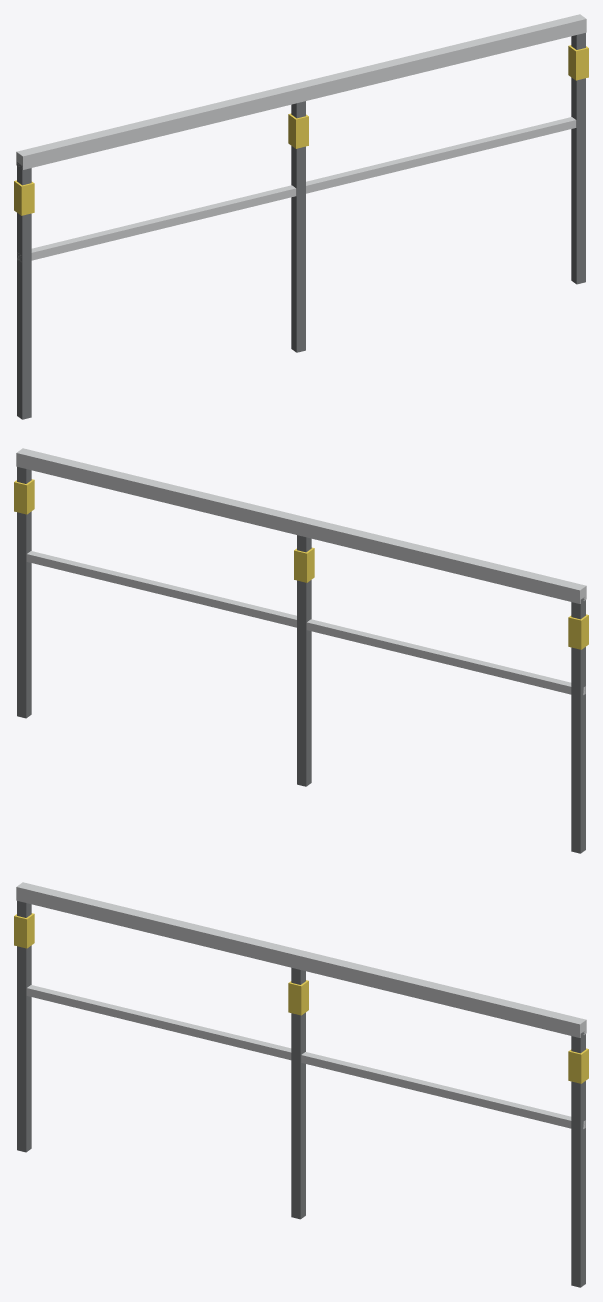
The model's file is Railing_Segment.fbx.
The picture shows the model from 3 angles, top to bottom: view 1: azimuth 30°, elevation 25°; view 2: azimuth 150°, elevation 25°; view 3: azimuth 330°, elevation 25°; orthographic projection.
Visible parts, largest first — view 1: Railing_Segment; view 2: Railing_Segment; view 3: Railing_Segment.
Part boxes in pixels (x1=…): Railing_Segment: x1=14, y1=14, x2=588, y2=419; Railing_Segment: x1=14, y1=448, x2=588, y2=853; Railing_Segment: x1=14, y1=882, x2=588, y2=1287.
Bounding box in the file's own units: 3.04 × 1.35 × 0.07.
